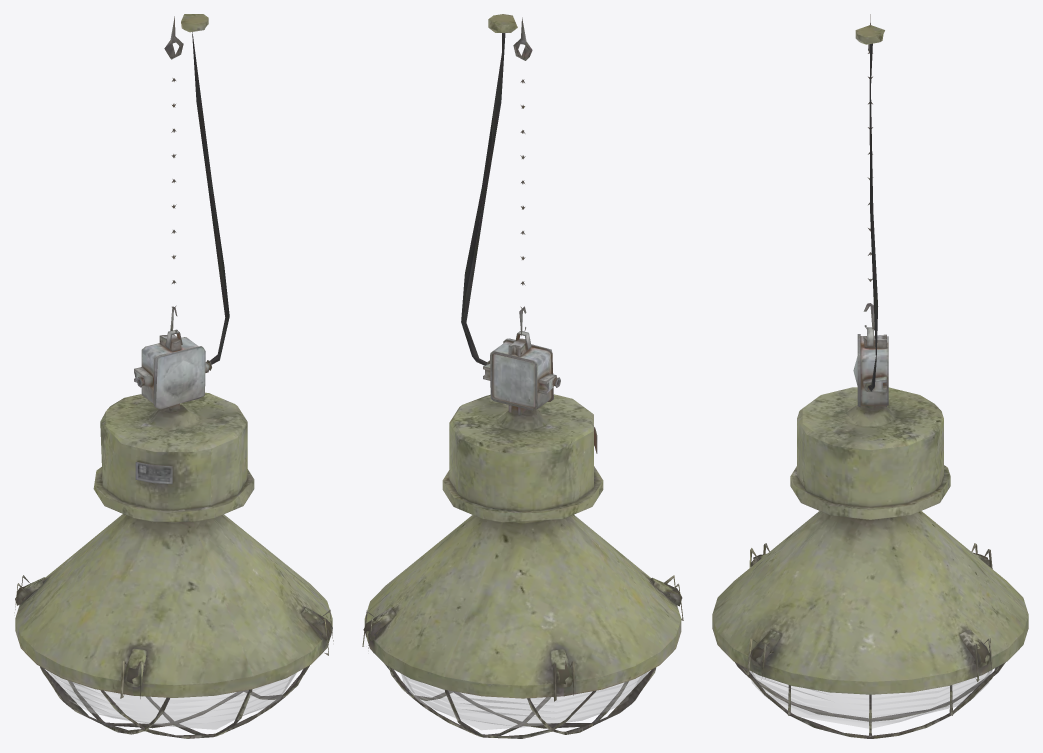
File: hanging_lamp.glb
The picture shows the model from 3 angles, left to right: view 1: azimuth 30°, elevation 25°; view 2: azimuth 150°, elevation 25°; view 3: azimuth 270°, elevation 25°; orthographic projection.
Visible parts, largest first — view 1: hanging_industrial_lamp; view 2: hanging_industrial_lamp; view 3: hanging_industrial_lamp.
Part boxes in pixels (x1,y1,x2,y2): hanging_industrial_lamp: (14,14,333,738); hanging_industrial_lamp: (362,14,683,738); hanging_industrial_lamp: (712,14,1028,738).
Size of the model in its own units: 0.5496 by 1.36 by 0.5496.
2 materials, 1 textured.
